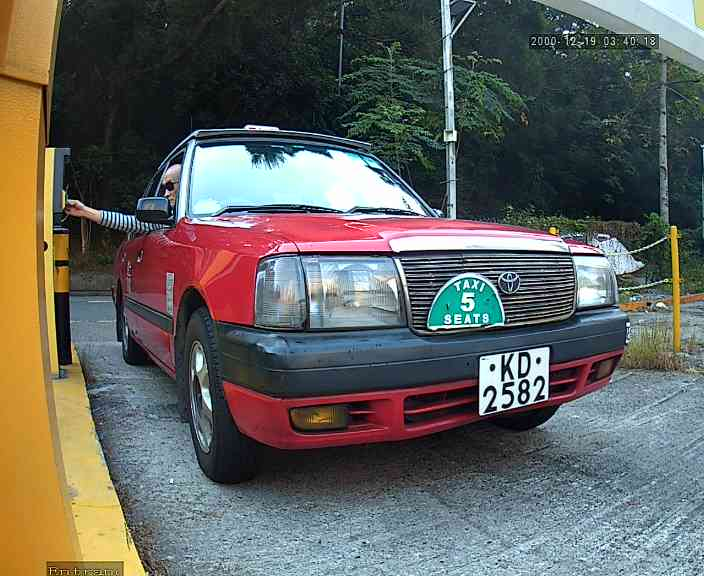taxi: (94, 102, 628, 471)
taxi_mark: (418, 266, 514, 342)
